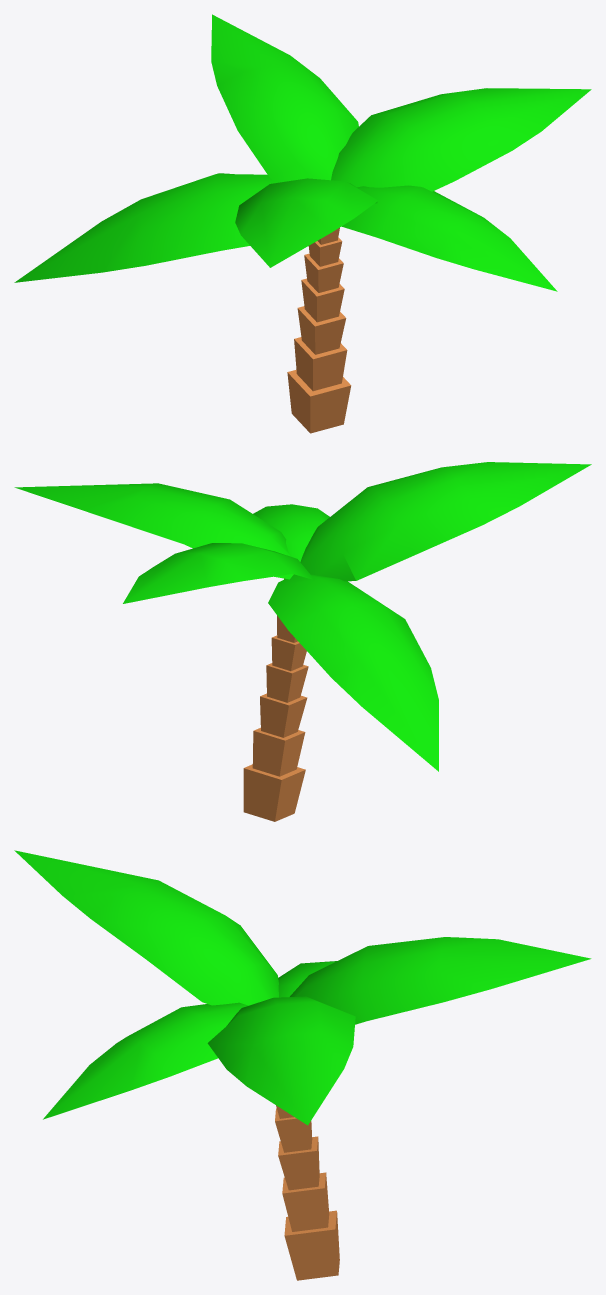
File: Palm_Tree _TEST_Baked.fbx
The picture shows the model from 3 angles, top to bottom: view 1: azimuth 30°, elevation 25°; view 2: azimuth 150°, elevation 25°; view 3: azimuth 270°, elevation 25°; orthographic projection. The views are drawn at different scales.
Visible parts, largest first — view 1: Plane.007; view 2: Plane.007; view 3: Plane.007.
Part boxes in pixels (x1,y1,x2,y2): Plane.007: (14,14,591,433); Plane.007: (14,462,591,821); Plane.007: (14,850,591,1280).
Bounding box in the file's own units: 604 × 355 × 559.
